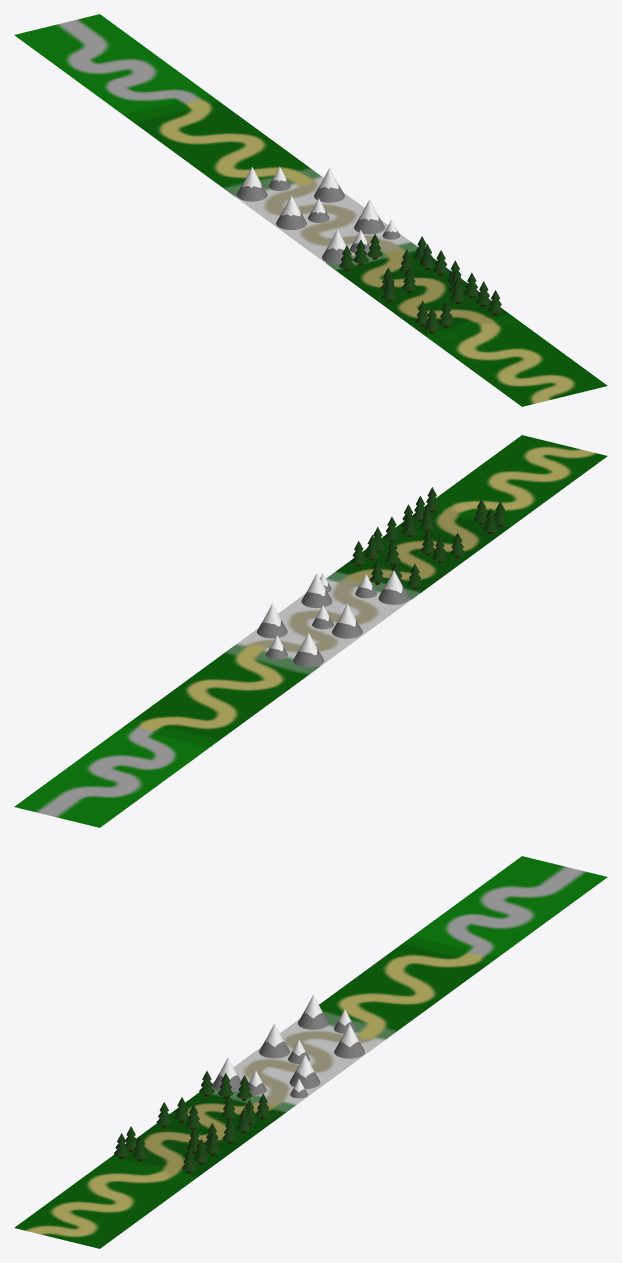
File: LevelHub.fbx
3 views of the same model, one above another, from view 1: azimuth 30°, elevation 25°; view 2: azimuth 150°, elevation 25°; view 3: azimuth 330°, elevation 25° (orthographic).
Visible parts, largest first — view 1: Плоскость, Цилиндр.344, Цилиндр.342, Цилиндр.343, Цилиндр.341; view 2: Плоскость, Цилиндр.340, Цилиндр.344, Цилиндр.342, Цилиндр.341, Цилиндр.343; view 3: Плоскость, Цилиндр.342, Цилиндр.344, Цилиндр.343, Цилиндр.341.
Boxes of the visible parts, x1,y1,x2,y2 form: Плоскость: [14, 14, 607, 406]; Цилиндр.344: [236, 167, 267, 201]; Цилиндр.342: [276, 195, 306, 229]; Цилиндр.343: [314, 168, 344, 202]; Цилиндр.341: [354, 199, 384, 234]; Плоскость: [14, 435, 607, 827]; Цилиндр.340: [378, 570, 409, 604]; Цилиндр.344: [293, 632, 323, 667]; Цилиндр.342: [332, 604, 362, 638]; Цилиндр.341: [301, 573, 332, 607]; Цилиндр.343: [257, 603, 287, 638]; Плоскость: [14, 856, 607, 1248]; Цилиндр.342: [259, 1024, 289, 1058]; Цилиндр.344: [298, 995, 328, 1029]; Цилиндр.343: [334, 1024, 364, 1058]; Цилиндр.341: [289, 1054, 320, 1088].
Bounding box in the file's own units: 2093 × 707 × 21431.
